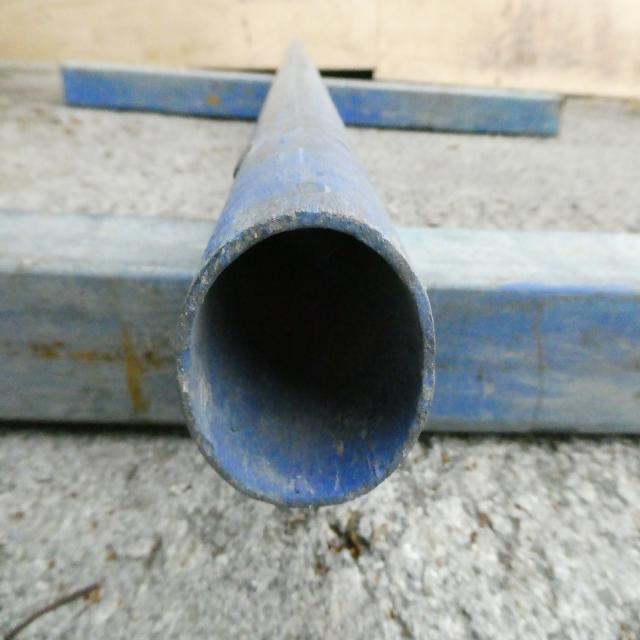pipe: (180, 223, 438, 508)
